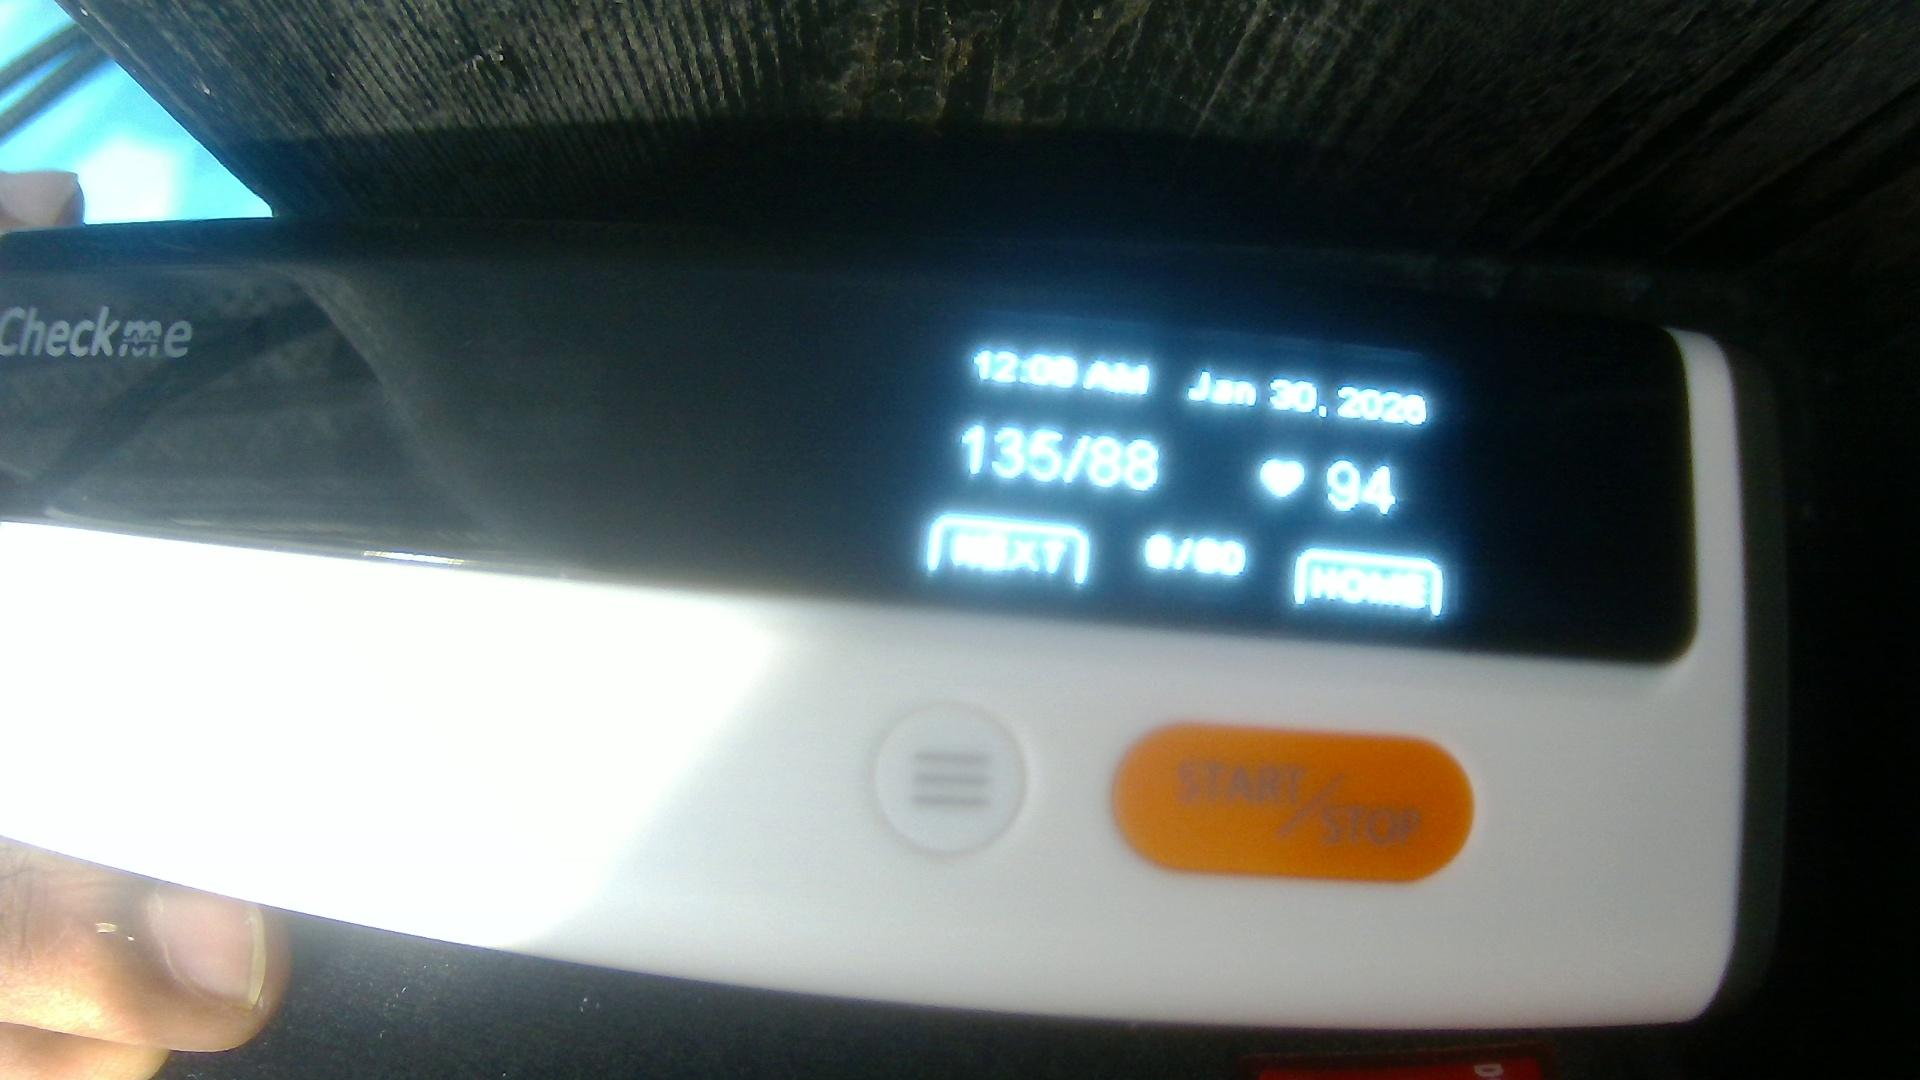DISPLAY: (7, 236, 1680, 667)
